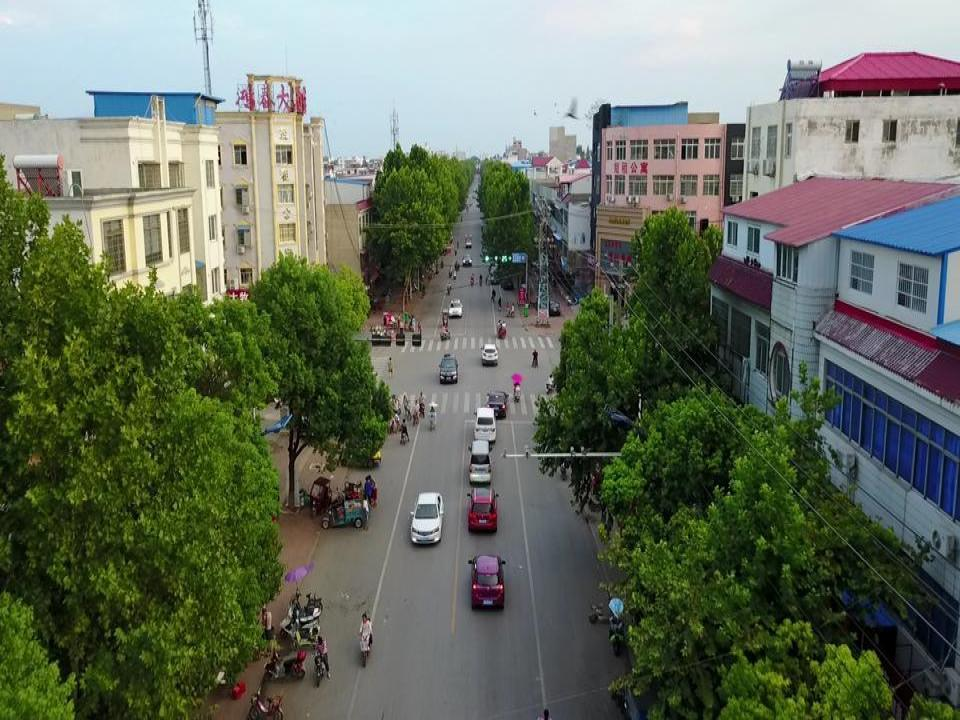car: (467, 555, 506, 612), (409, 491, 444, 544), (468, 488, 501, 533), (438, 353, 458, 383), (488, 393, 506, 419), (482, 341, 498, 364), (548, 299, 560, 316), (449, 301, 460, 316), (496, 322, 506, 338), (464, 232, 472, 245), (462, 256, 472, 265)
van: (469, 440, 491, 483), (473, 404, 496, 443)
